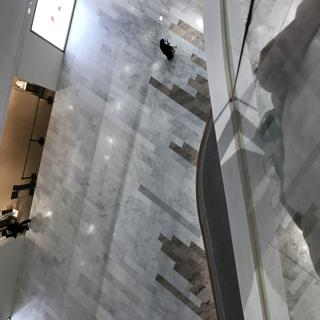person: (150, 30, 185, 69)
